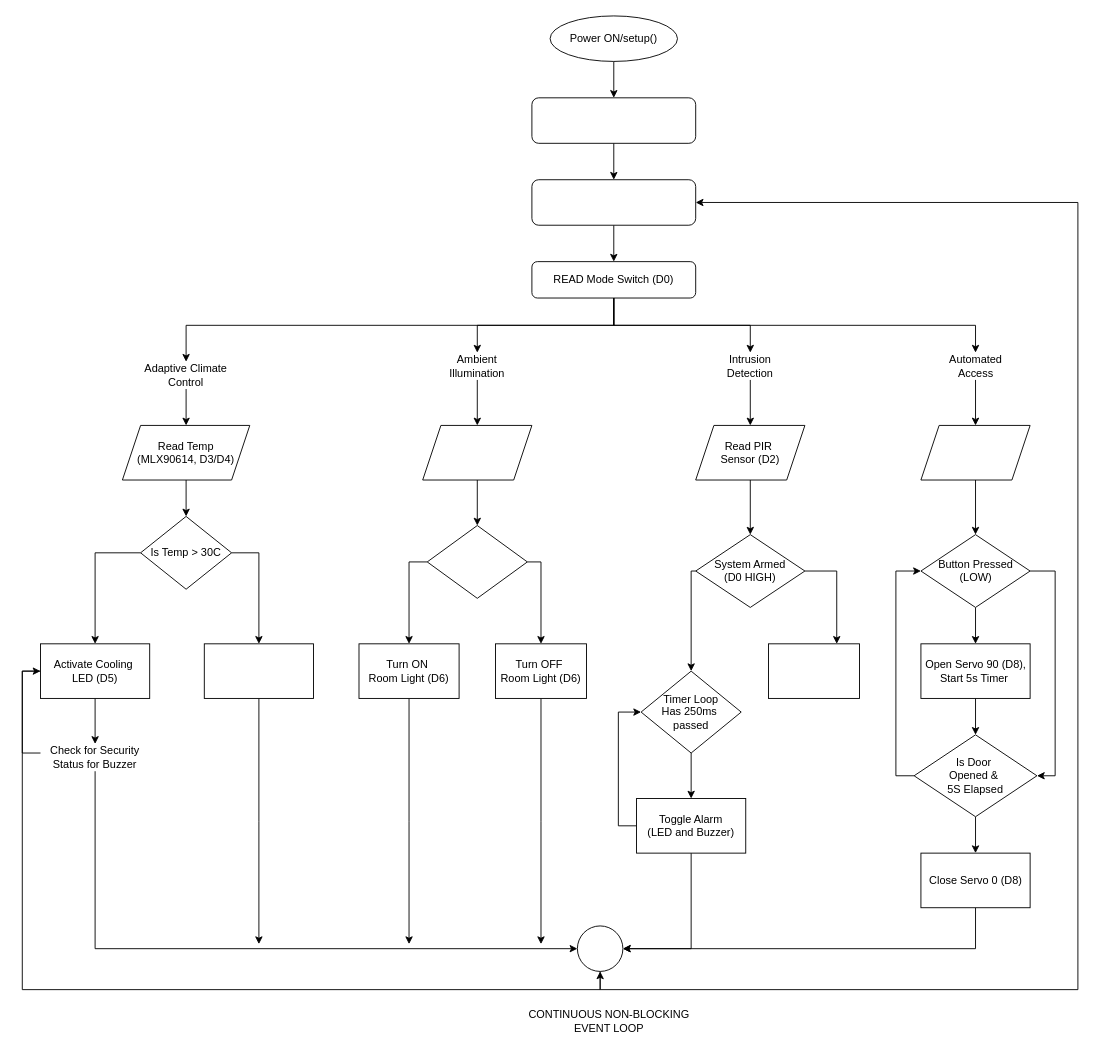
Some shapes in this 1101 by 1051 pixel diagram are drawn without their labels. Here are the shapes that lost their labels. From the top down, the centre of each, then its label:
At point 613,120: "INITIALIZE SENSORS, ACTUATORS & I2C BUS".
At point 613,202: "UPDATE currentMillis = millis()".
At point 477,452: "Read LDR Voltage (A0)".
At point 975,452: "Read Doorbell Button (D1)".
At point 476,561: "Value < 400 (Dark)".
At point 258,670: "Deactivate Cooling LED (D5)".
At point 813,670: "Do Nothing Standby".
